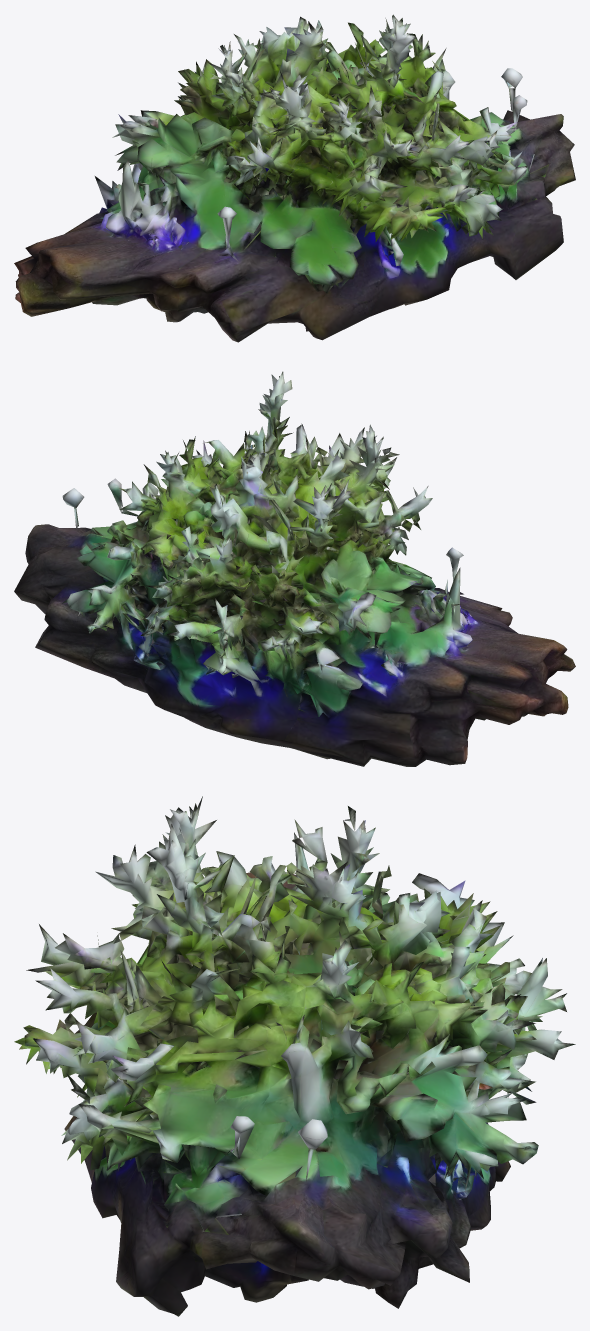
The model's file is moss_clump_glow.glb.
The picture shows the model from 3 angles, top to bottom: view 1: azimuth 30°, elevation 25°; view 2: azimuth 150°, elevation 25°; view 3: azimuth 270°, elevation 25°; orthographic projection. The views are drawn at different scales.
Bounding box in the file's own units: 2 × 1.02 × 1.24.
1 material, 1 textured.
